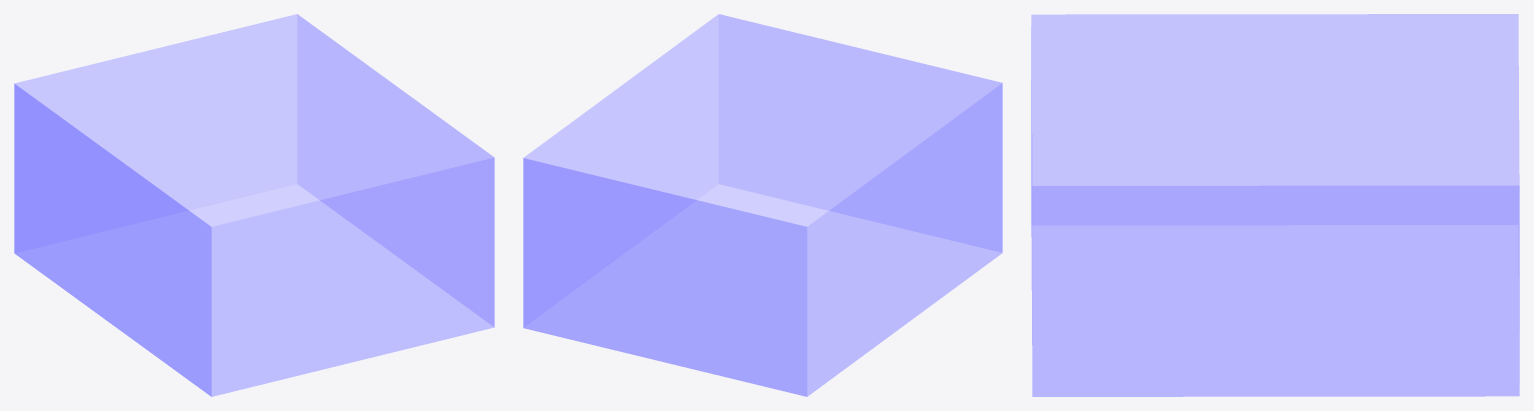
Rendered from ghost_psu_final.glb.
3 views of the same model, side by side, from view 1: azimuth 30°, elevation 25°; view 2: azimuth 150°, elevation 25°; view 3: azimuth 270°, elevation 25° (orthographic). The views are drawn at different scales.
Visible parts, largest first — view 1: GHOST_PSU; view 2: GHOST_PSU; view 3: GHOST_PSU.
Part boxes in pixels (x1,y1,x2,y2): GHOST_PSU: [14, 14, 494, 396]; GHOST_PSU: [523, 14, 1002, 396]; GHOST_PSU: [1031, 14, 1519, 396].
Bounding box in the file's own units: 0.1505 × 0.086 × 0.1804.
